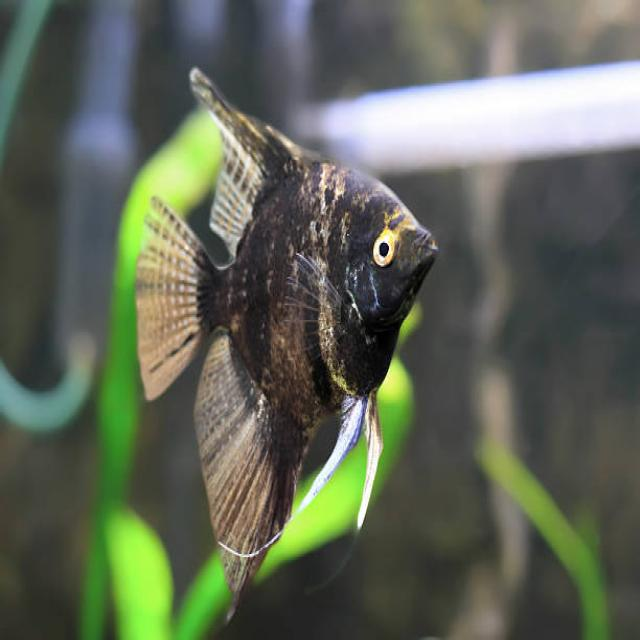AngelFish: (139, 64, 436, 611)
